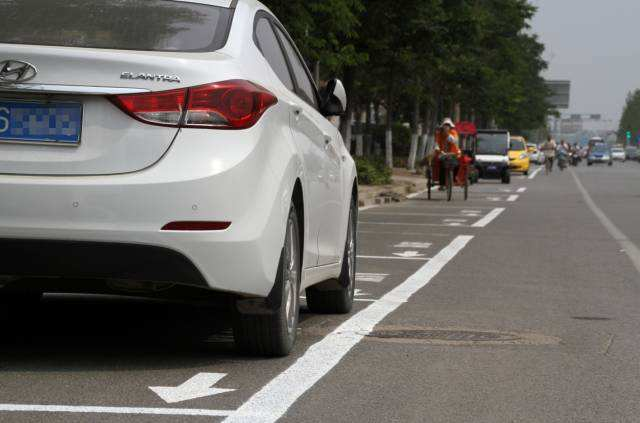slot_nocar: (370, 196, 513, 233)
